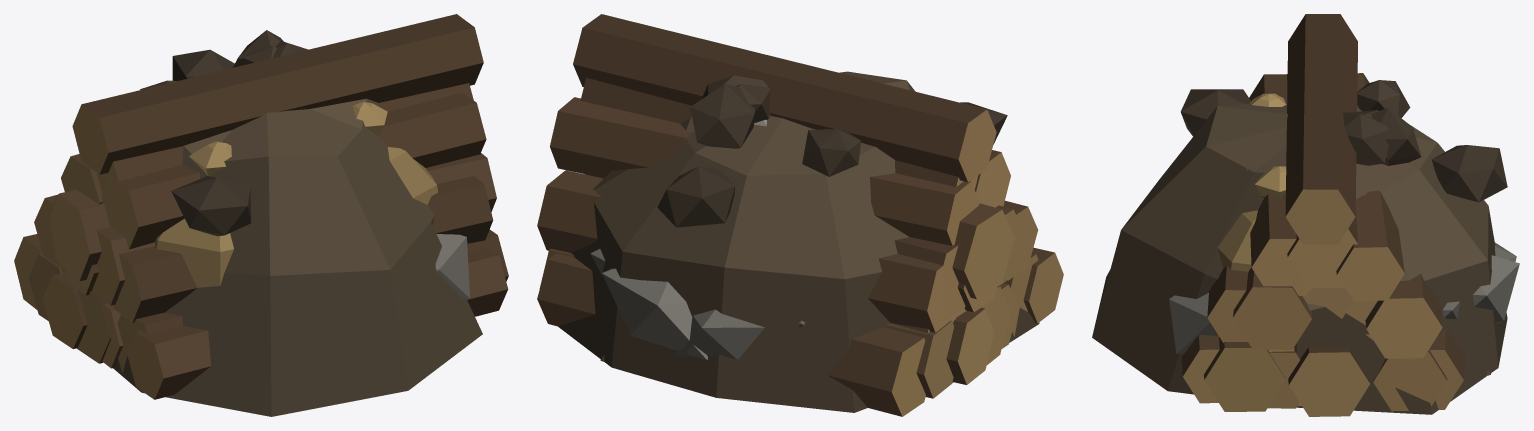
File: mormane.glb
3 renders of one model, left to right at view 1: azimuth 30°, elevation 25°; view 2: azimuth 150°, elevation 25°; view 3: azimuth 270°, elevation 25°, orthographic. The views are drawn at different scales.
Visible parts, largest first — view 1: pamant_2, lemn_2, lemn_1, hrana_2, lemn_0, piatra_2; view 2: pamant_2, lemn_2, lemn_1, piatra_0, lemn_0, piatra_2; view 3: pamant_2, lemn_2, lemn_1, hrana_2, piatra_2, piatra_0, lemn_0.
Part boxes in pixels (left/top/right/bottom): pamant_2: left=113, top=30, right=482, bottom=416; lemn_2: left=14, top=14, right=508, bottom=399; lemn_1: left=28, top=83, right=508, bottom=373; hrana_2: left=155, top=101, right=455, bottom=297; lemn_0: left=49, top=189, right=110, bottom=281; piatra_2: left=358, top=133, right=469, bottom=299; pamant_2: left=558, top=71, right=1039, bottom=412; lemn_2: left=537, top=14, right=1063, bottom=416; lemn_1: left=539, top=77, right=1038, bottom=398; piatra_0: left=602, top=268, right=707, bottom=359; lemn_0: left=892, top=203, right=1014, bottom=382; piatra_2: left=590, top=119, right=805, bottom=359; pamant_2: left=1092, top=80, right=1507, bottom=414; lemn_2: left=1181, top=14, right=1465, bottom=409; lemn_1: left=1204, top=74, right=1447, bottom=416; hrana_2: left=1217, top=93, right=1286, bottom=271; piatra_2: left=1169, top=169, right=1516, bottom=354; piatra_0: left=1473, top=255, right=1519, bottom=323; lemn_0: left=1268, top=288, right=1373, bottom=405.
Size of the model in its own units: 0.8279 by 0.4934 by 0.8119.
